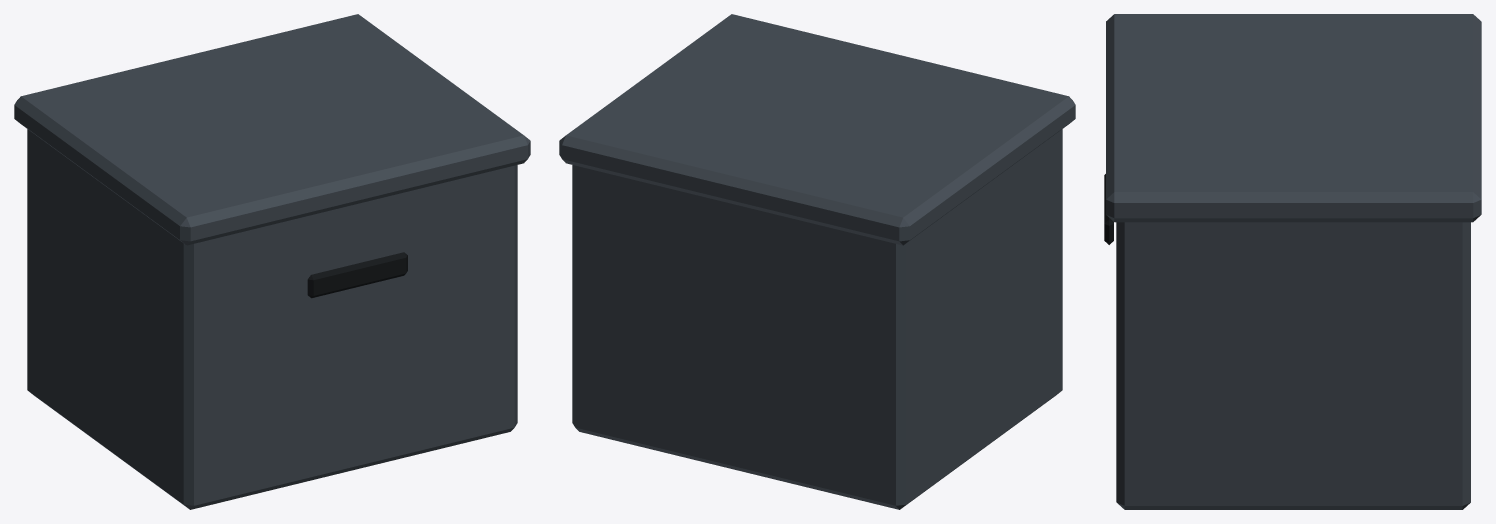
File: DarkStorageBox.fbx
The picture shows the model from 3 angles, left to right: view 1: azimuth 30°, elevation 25°; view 2: azimuth 150°, elevation 25°; view 3: azimuth 270°, elevation 25°; orthographic projection. The views are drawn at different scales.
Visible parts, largest first — view 1: DarkStorageBox; view 2: DarkStorageBox; view 3: DarkStorageBox.
Boxes of the visible parts, x1,y1,x2,y2 form: DarkStorageBox: (14,14,530,509); DarkStorageBox: (559,14,1075,509); DarkStorageBox: (1104,14,1481,509).
Size of the model in its own units: 42 by 34.1 by 36.15.
1 material, 1 textured.
